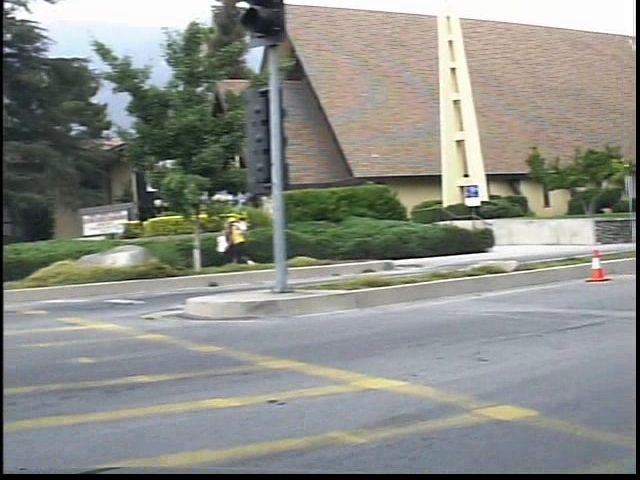person: (234, 210, 271, 269)
